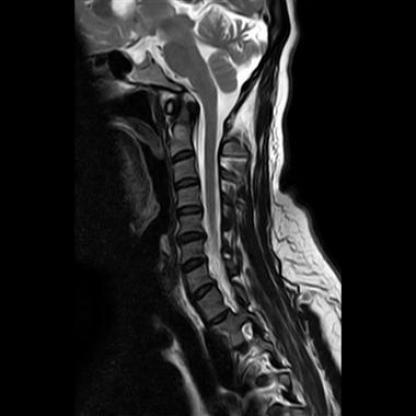Disc Bulgerotation: (176, 228, 207, 246), (180, 255, 209, 273)
Osteophytesrotation: (175, 228, 207, 246), (180, 256, 209, 274)
